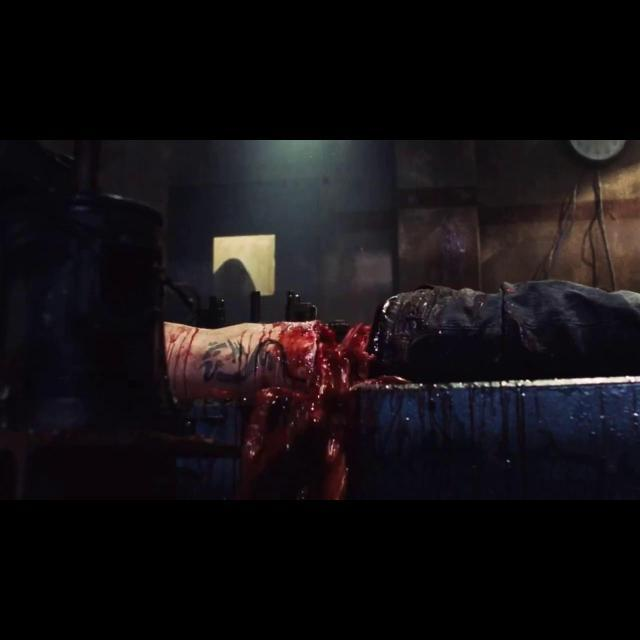blood: (165, 286, 640, 499)
